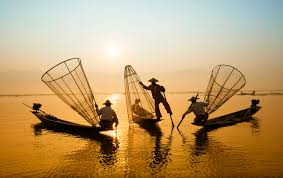boat: (28, 102, 105, 137), (200, 98, 264, 129), (130, 117, 164, 125)
